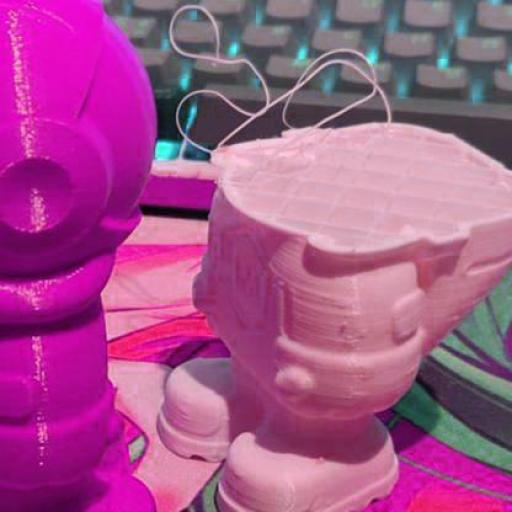spaghetti: (169, 2, 395, 158)
